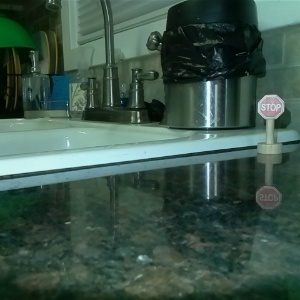stop sign: (255, 92, 284, 155)
